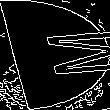M_W: (6, 28, 104, 82)
